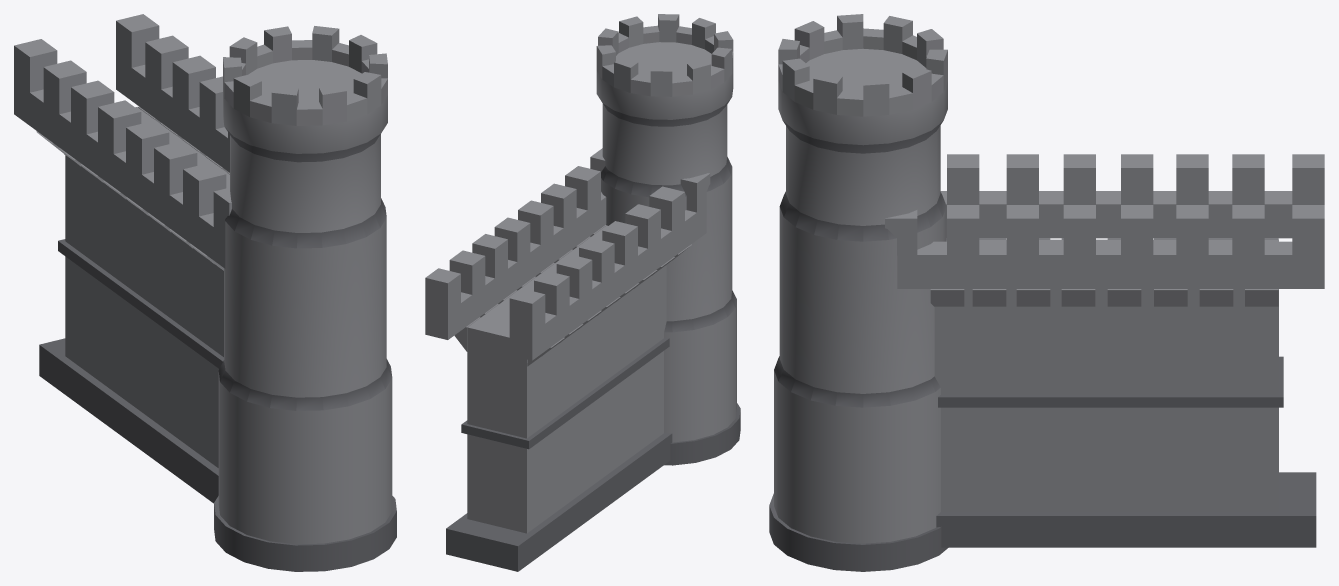
Rendered from model_wallWithTower.fbx.
3 renders of one model, left to right at view 1: azimuth 30°, elevation 25°; view 2: azimuth 150°, elevation 25°; view 3: azimuth 270°, elevation 25°, orthographic. The views are drawn at different scales.
Parts seen in each view (by area): view 1: polySurface98; view 2: polySurface98; view 3: polySurface98.
Boxes of the visible parts, x1,y1,x2,y2 form: polySurface98: (14, 14, 396, 571); polySurface98: (425, 14, 740, 571); polySurface98: (769, 14, 1324, 571).
Bounding box in the file's own units: 4.36 × 12.36 × 12.9.
